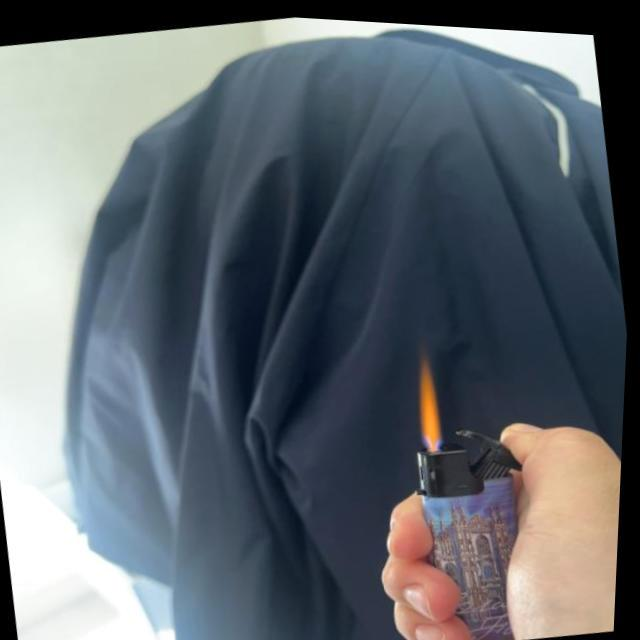fire: (411, 350, 453, 444)
